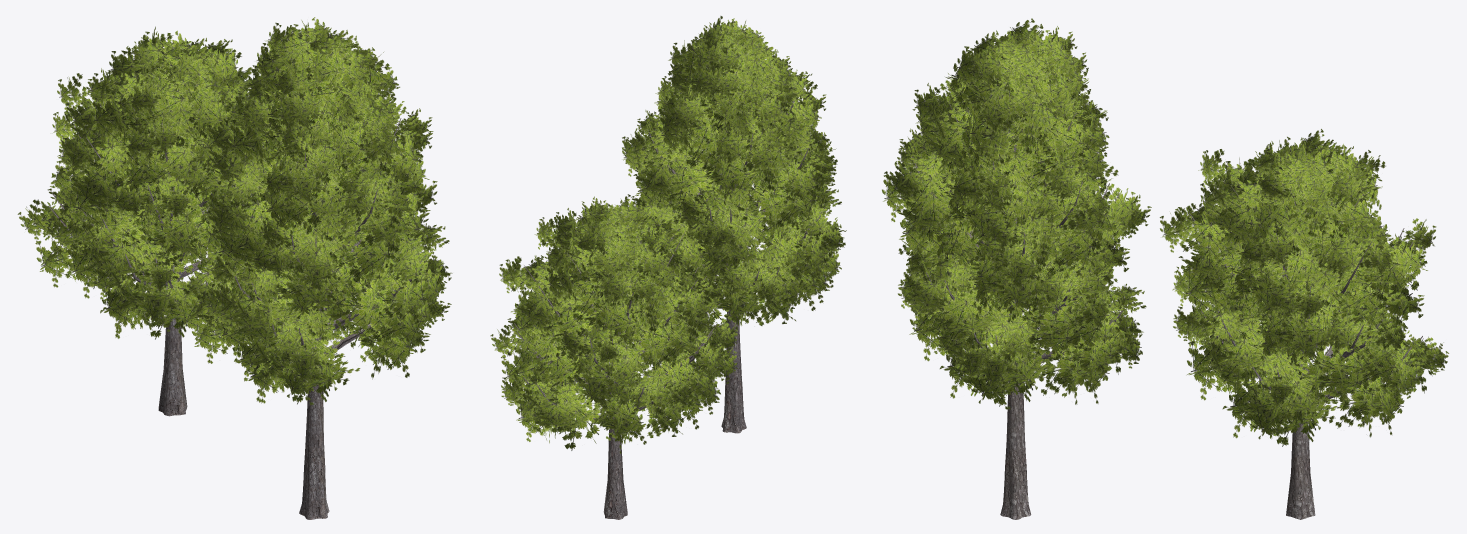
3 views of the same model, side by side, from view 1: azimuth 30°, elevation 25°; view 2: azimuth 150°, elevation 25°; view 3: azimuth 270°, elevation 25° (orthographic). The views are drawn at different scales.
Visible parts, largest first — view 1: tree4, tree6; view 2: tree4, tree6; view 3: tree4, tree6.
Boxes of the visible parts, box(x1,y1,x2,y2) form: tree4: box(177, 17, 452, 519); tree6: box(17, 26, 311, 416); tree4: box(622, 16, 846, 433); tree6: box(490, 194, 737, 519); tree4: box(882, 18, 1151, 519); tree6: box(1159, 129, 1448, 519).
Size of the model in its own units: 580 by 1036 by 1100.
Materials: 2 (2 with a texture image).
